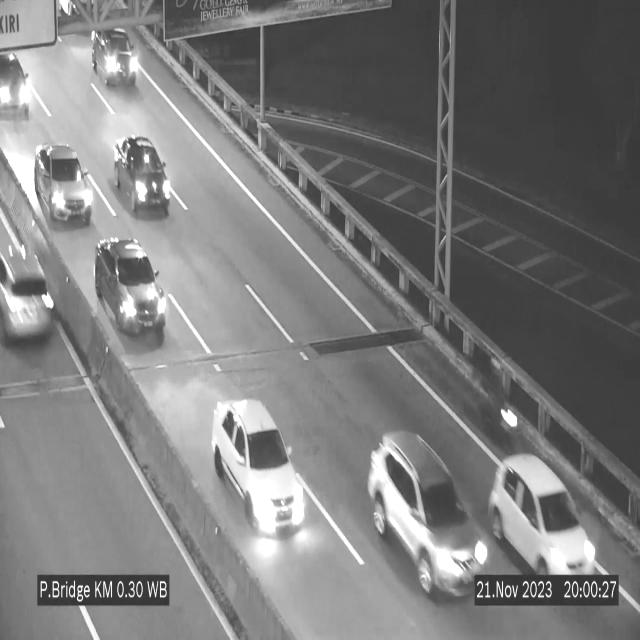Car: (365, 424, 487, 597), (488, 452, 597, 577), (212, 400, 306, 528), (94, 236, 167, 342), (0, 239, 60, 341), (113, 135, 172, 220), (34, 142, 93, 224), (93, 28, 141, 92), (0, 45, 38, 119)
Motorcycle: (479, 351, 522, 451)
